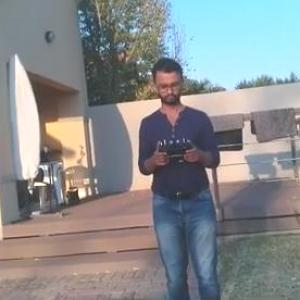follow: (133, 53, 229, 299)
